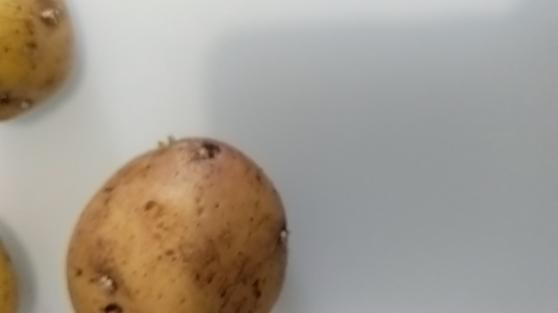potato: (65, 134, 288, 313), (1, 2, 79, 127)
